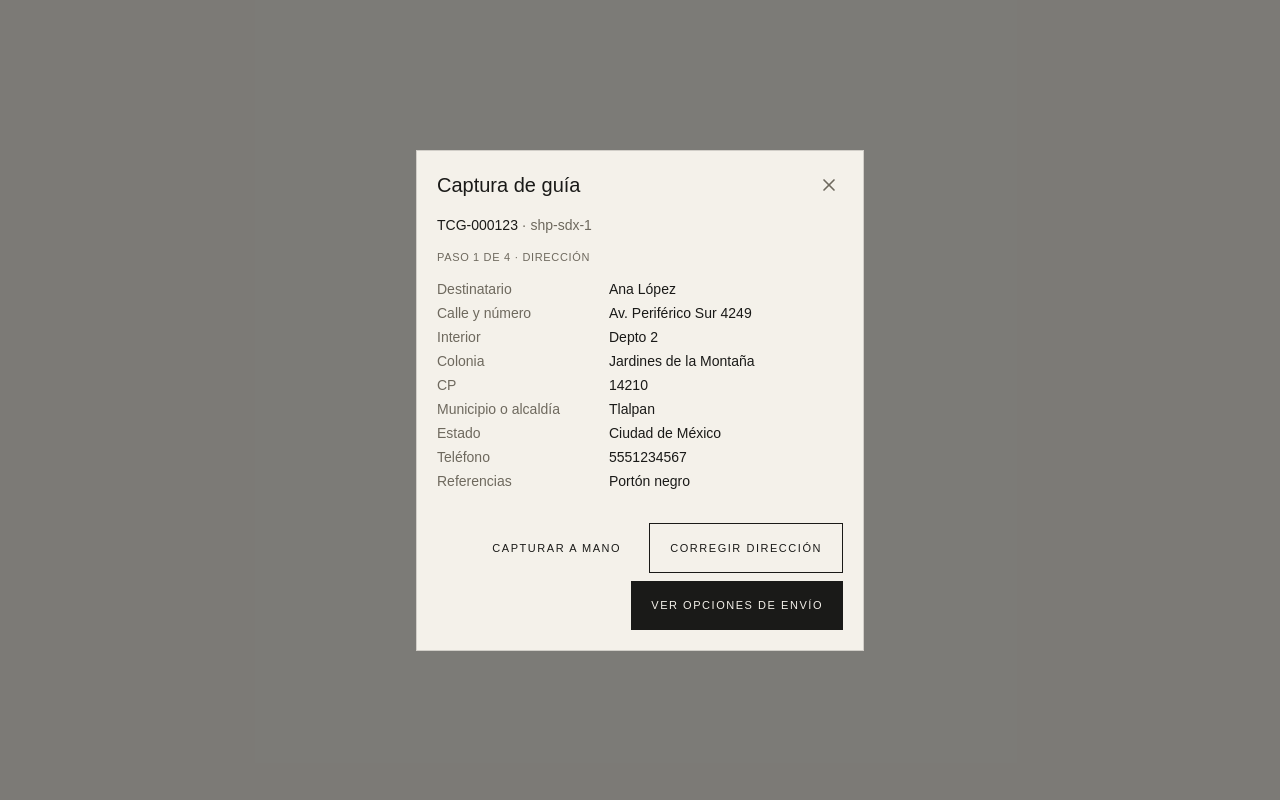
it: FC-25 parte 1 / UX-ADR-11 · «Corregir dirección» no borra la colonia escrita › colonia guardada DE la lista ⇒ el select con ella elegida (no se va a mano)
The width and height of the screenshot is (1280, 800).
Click the button "Corregir dirección" at (746, 548), box [649,522,843,573]
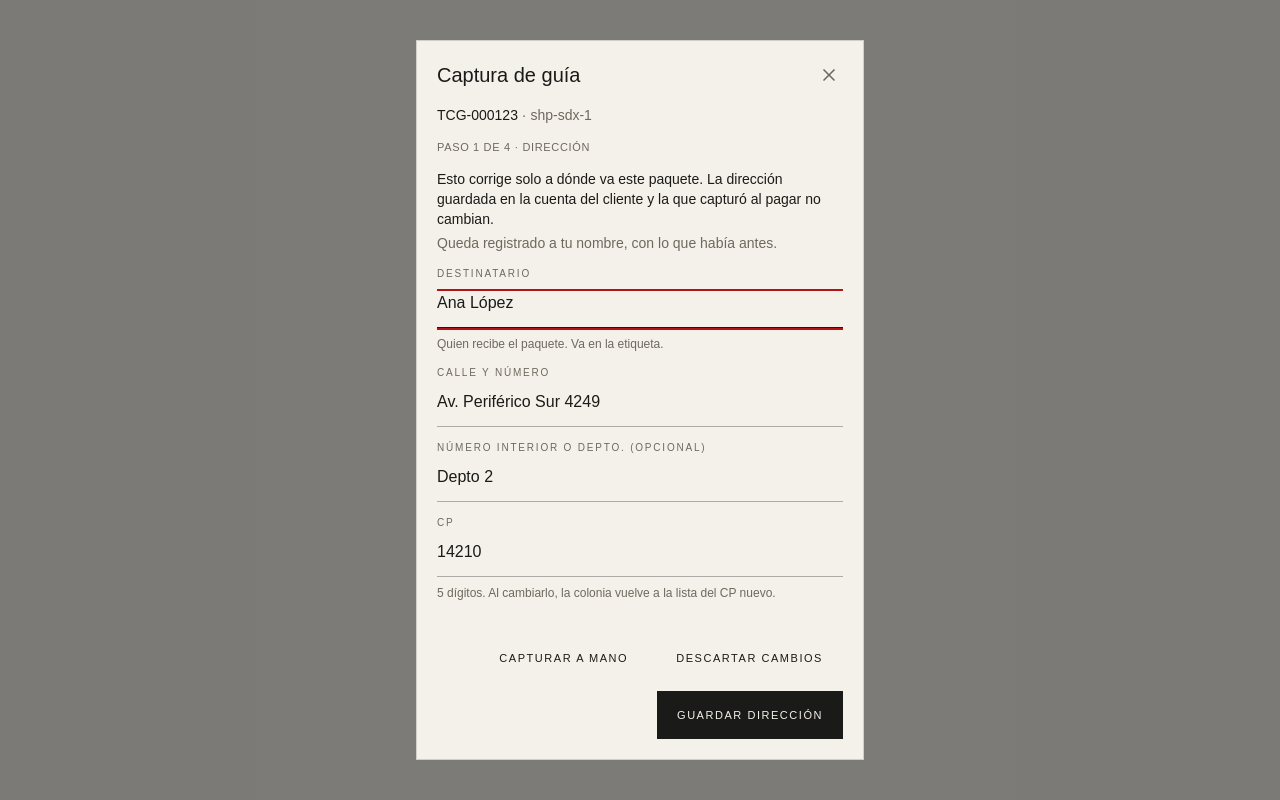
Check: the button "Guardar dirección" is shown, box [657,690,843,739]
